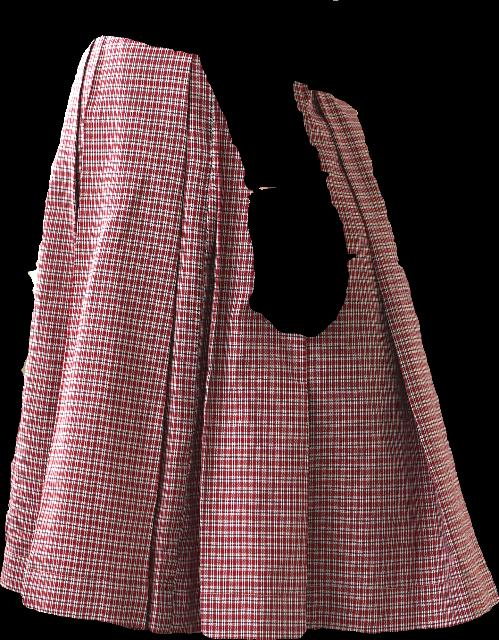skirt: (0, 36, 498, 639)
